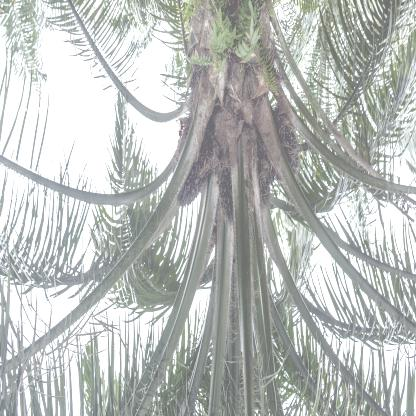1: (177, 142, 208, 210)
palm-oil: (273, 112, 301, 180), (219, 166, 235, 226), (258, 164, 273, 204)
